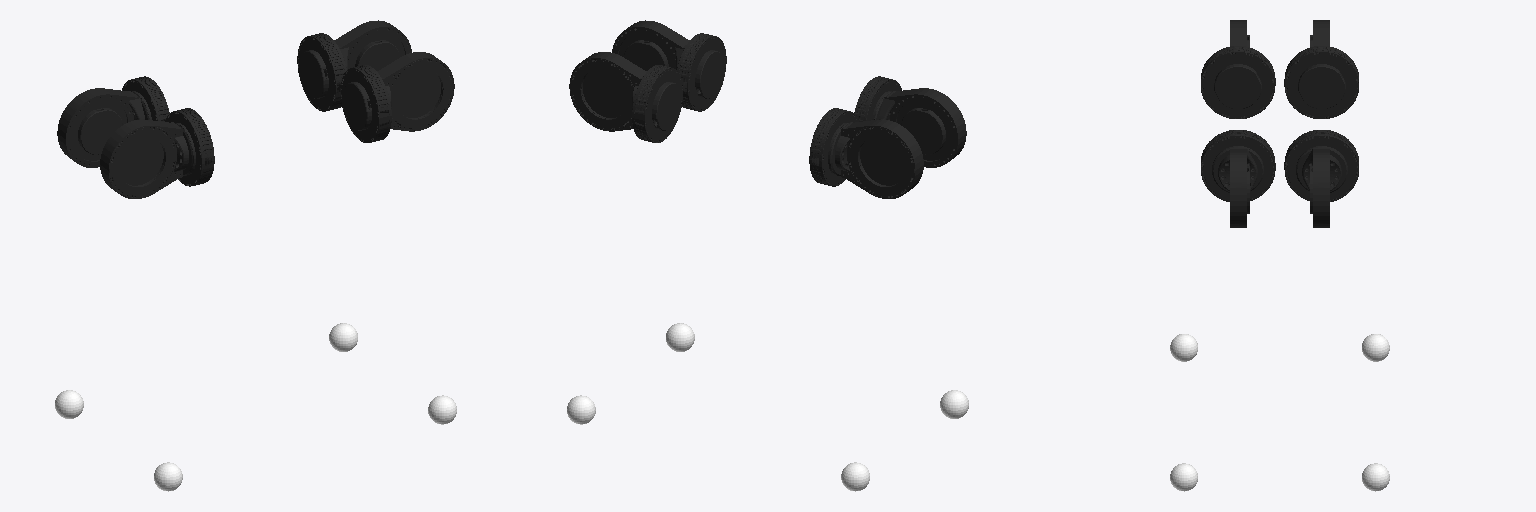
--- Facts derived from the render (not from the file) ---
The picture shows the robot from 3 angles, left to right: view 1: azimuth 30°, elevation 25°; view 2: azimuth 150°, elevation 25°; view 3: azimuth 270°, elevation 25°; orthographic projection.
Robot: quake_description — 18 links, 17 joints (12 revolute, 5 fixed); root link base; default pose: all joints at 0.
Visible links, largest first — view 1: RH_hip, RF_hip, LF_hip, LH_hip, LH_FOOT, LF_FOOT, RF_FOOT, RH_FOOT; view 2: LH_hip, LF_hip, RF_hip, RH_hip, RH_FOOT, RF_FOOT, LF_FOOT, LH_FOOT; view 3: LH_hip, RH_hip, LF_hip, RF_hip, LF_FOOT, LH_FOOT, RF_FOOT, RH_FOOT.
Boxes of the visible links, box(x1,y1,x2,y2) form: RH_hip: box(100, 108, 214, 198); RF_hip: box(341, 52, 454, 142); LF_hip: box(297, 20, 411, 111); LH_hip: box(57, 76, 169, 167); LH_FOOT: box(55, 390, 83, 418); LF_FOOT: box(329, 323, 357, 351); RF_FOOT: box(428, 395, 456, 424); RH_FOOT: box(154, 462, 182, 491); LH_hip: box(809, 108, 923, 198); LF_hip: box(569, 52, 682, 142); RF_hip: box(612, 20, 726, 111); RH_hip: box(854, 76, 966, 167); RH_FOOT: box(940, 390, 968, 418); RF_FOOT: box(666, 323, 694, 351); LF_FOOT: box(567, 395, 595, 424); LH_FOOT: box(841, 462, 869, 491); LH_hip: box(1284, 20, 1358, 118); RH_hip: box(1201, 20, 1275, 118); LF_hip: box(1284, 130, 1358, 227); RF_hip: box(1201, 130, 1275, 227); LF_FOOT: box(1362, 463, 1389, 491); LH_FOOT: box(1362, 334, 1389, 361); RF_FOOT: box(1170, 463, 1197, 491); RH_FOOT: box(1170, 334, 1197, 361).
Bounding box of the posed robot: 0.877 × 0.498 × 0.839 m (x, y, z).
Meshes: 5 distinct files referenced, 4 mesh visuals loaded (1 binary STL); not drawn: 9 (reference not matched to a file when rendering).

URDF robot description (quake_description):
<?xml version="1.0" encoding="utf-8"?>

<robot name="quake_description">
  
  <material name="black">
    <color rgba="0.0 0.0 0.0 1.0"/>
  </material>
  <material name="blue">
    <color rgba="0.0 0.0 0.8 1.0"/>
  </material>
  <material name="green">
    <color rgba="0.0 0.8 0.0 1.0"/>
  </material>
  <material name="grey">
    <color rgba="0.2 0.2 0.2 1.0"/>
  </material>
  <material name="silver">
    <color rgba="0.913725490196 0.913725490196 0.847058823529 1.0"/>
  </material>
  <material name="orange">
    <color rgba="1.0 0.423529411765 0.0392156862745 1.0"/>
  </material>
  <material name="brown">
    <color rgba="0.870588235294 0.811764705882 0.764705882353 1.0"/>
  </material>
  <material name="red">
    <color rgba="0.8 0.0 0.0 1.0"/>
  </material>
  <material name="white">
    <color rgba="1.0 1.0 1.0 1.0"/>
  </material>

  <gazebo>
      <plugin name="gazebo_ros_control" filename="liblegged_hw_sim.so">
          <robotNamespace>/</robotNamespace>
          <robotParam>legged_robot_description</robotParam>
          <robotSimType>legged_gazebo/LeggedHWSim</robotSimType>
      </plugin>
  </gazebo>

  <gazebo>
      <plugin name="p3d_base_controller" filename="libgazebo_ros_p3d.so">
          <alwaysOn>true</alwaysOn>
          <updateRate>1000.0</updateRate>
          <bodyName>base</bodyName>
          <topicName>ground_truth/state</topicName>
          <gaussianNoise>0</gaussianNoise>
          <frameName>world</frameName>
          <xyzOffsets>0 0 0</xyzOffsets>
          <rpyOffsets>0 0 0</rpyOffsets>
      </plugin>
  </gazebo>

  <link name="base">
    <visual>
      <origin rpy="0 0 0" xyz="0 0 0"/>
      <geometry>
        <mesh filename="package://quake_description/meshes/trunk.STL" scale="1 1 1"/>
      </geometry>
      <material name="grey"/>
    </visual>
    <collision>
      <origin rpy="0 0 0" xyz="0 0 0"/>
      <geometry>
        <box size="0.9 0.19 0.05"/>
      </geometry>
    </collision>
    <inertial>
      <origin rpy="0 0 0" xyz="0.0 0.0 0.0"/>
      <mass value="40.116"/>
      <inertia ixx="0.18499" ixy="-0.00164228" ixz="0.001773" iyy="2.328582" iyz="0.00017583" izz="2.3874545"/>
    </inertial>
  </link>

  <joint name="base_imu_joint" type="fixed">
    <parent link="base"/>
    <child link="base_imu"/>
    <origin rpy="0 0 0" xyz="0 0 0"/>
  </joint>

  <link name="base_imu">
    <inertial>
      <mass value="0.001"/>
      <origin rpy="0 0 0" xyz="0 0 0"/>
      <inertia ixx="0.00000001" ixy="0" ixz="0" iyy="0.00000001" iyz="0" izz="0.00000001"/>
    </inertial>
    <visual>
      <origin rpy="0 0 0" xyz="0 0 0"/>
      <geometry>
        <box size="0.001 0.001 0.001"/>
      </geometry>
      <material name="red"/>
    </visual>
    <collision>
      <origin rpy="0 0 0" xyz="0 0 0"/>
      <geometry>
        <box size=".001 .001 .001"/>
      </geometry>
    </collision>
  </link>
  
  <gazebo reference="base_imu">
      <material>Gazebo/Orange</material>
  </gazebo>
  <gazebo reference="base_imu_joint">
      <disableFixedJointLumping>true</disableFixedJointLumping>
  </gazebo>  

  <joint name="LF_HAA" type="revolute">
    <origin rpy="0 0 0" xyz="0.241 0.095 0"/>
    <parent link="base"/>
    <child link="LF_hip"/>
    <axis xyz="1 0 0"/>
    <dynamics damping="0.01" friction="0.2"/>
    <limit effort="550" lower="-0.8" upper="0.8" velocity="52.4" />
    <initial_value value="0.45"/>
  </joint>

  <link name="LF_hip">
    <visual>
      <origin rpy="0 0 0" xyz="0 0 0"/>
      <geometry>
        <mesh filename="package://quake_description/meshes/hip.STL" scale="1 1 1"/>
      </geometry>
      <material name="grey"/>
    </visual>
    <collision>
      <origin rpy="1.57079632679 0 0" xyz="0 -0.04 0"/>
      <geometry>
        <cylinder length="0.08" radius="0.041"/>
      </geometry>
    </collision>
    <inertial>
      <origin rpy="0 0 0" xyz="-0.001568 -0.008134 0.000864"/>
      <mass value="1.8188"/>
      <inertia ixx="0.002903894" ixy="-0.000071850" ixz="-0.000001262" iyy="0.004907517" iyz="-0.00000175" izz="0.005586944"/>
    </inertial>
  </link>

  <joint name="LF_HFE" type="revolute">
    <origin rpy="0 0 0" xyz="0.1065 0.122 0"/>
    <parent link="LF_hip"/>
    <child link="LF_thigh"/>
    <axis xyz="0 1 0"/>
    <dynamics damping="0.01" friction="0.2"/>
    <limit effort="550" lower="-1.04" upper="4.188" velocity="28.6" />
    <initial_value value="1.20"/>
  </joint>

  <link name="LF_thigh">
    <visual>
      <origin rpy="0 0 0" xyz="0 -0.06 0"/>
      <geometry>
        <mesh filename="package://quake_description/meshes/thigh.STL" scale="1 1 1"/>
      </geometry>
      <material name="grey"/>
    </visual>
    <collision>
      <origin rpy="0 1.57079632679 0" xyz="0 0 -0.18"/>
      <geometry>
        <box size="0.36 0.034 0.043"/>
      </geometry>
    </collision>
    <inertial>
      <origin rpy="0 0 0" xyz="-0.000482 0.02001 -0.031996"/>
      <mass value="1.7272"/>
      <inertia ixx="0.0153003681" ixy="0.0000097119" ixz="0.0013269042" iyy="0.0157875183" iyz="0.0000272322" izz="0.0009984897"/>
    </inertial>
  </link>

  <joint name="LF_KFE" type="revolute">
    <origin rpy="0 0 0" xyz="0 0 -0.36"/>
    <parent link="LF_thigh"/>
    <child link="LF_calf"/>
    <axis xyz="0 1 0"/>
    <dynamics damping="0.01" friction="0.2"/>
    <limit effort="550" lower="-2.69" upper="0" velocity="28.6"/>
    <initial_value value="-2.69"/>
  </joint>

  <link name="LF_calf">
    <visual>
      <origin rpy="0 0 0" xyz="0 0 0"/>
      <geometry>
        <mesh filename="package://quake_description/meshes/calf.STL" scale="1 1 1"/>
      </geometry>
      <material name="white"/>
    </visual>
    <collision>
      <origin rpy="0 1.57079632679 0" xyz="0 0 -0.18"/>
      <geometry>
        <box size="0.36 0.016 0.016"/>
      </geometry>
    </collision>
    <inertial>
      <origin rpy="0 0 0" xyz="-0.002196 -0.000381 -0.12338"/>
      <mass value="0.30254"/>
      <inertia ixx="0.006341369" ixy="-0.000000003" ixz="-0.000087951" iyy="0.006355157" iyz="-0.000001336" izz="0.000039188"/>
    </inertial>
  </link>

  <joint name="LF_foot_fixed" type="fixed">
    <origin rpy="0 0 0" xyz="0 0 -0.36"/>
    <parent link="LF_calf"/>
    <child link="LF_FOOT"/>
  </joint>

  <link name="LF_FOOT">
    <visual>
      <origin rpy="0 0 0" xyz="0 0 0"/>
      <geometry>
        <sphere radius="0.032"/>
      </geometry>
      <material name="white"/>
    </visual>
    <collision>
      <origin rpy="0 0 0" xyz="0 0 0"/>
      <geometry>
        <sphere radius="0.022"/>
      </geometry>
    </collision>
    <inertial>
      <mass value="0.06"/>
      <inertia ixx="4.2336e-05" ixy="0.0" ixz="0.0" iyy="4.2336e-05" iyz="0.0" izz="4.2336e-05"/>
    </inertial>
  </link>
  
  <gazebo reference="LF_foot_fixed">
      <disableFixedJointLumping>true</disableFixedJointLumping>
  </gazebo>

  <gazebo reference="LF_hip">
      <mu1>0.2</mu1>
      <mu2>0.2</mu2>
      <material>Gazebo/DarkGrey</material>
  </gazebo>
  <gazebo reference="LF_thigh">
      <mu1>0.2</mu1>
      <mu2>0.2</mu2>
      <self_collide>0</self_collide>
      <material>Gazebo/DarkGrey</material>
      <kp value="1000000.0"/>
      <kd value="100.0"/>
  </gazebo>
  <gazebo reference="LF_calf">
      <mu1>0.6</mu1>
      <mu2>0.6</mu2>
      <self_collide>0</self_collide>
  </gazebo>
  <gazebo reference="LF_FOOT">
      <mu1>0.6</mu1>
      <mu2>0.6</mu2>
      <self_collide>1</self_collide>
      <material>Gazebo/DarkGrey</material>
      <kp value="1000000.0"/>
      <kd value="100.0"/>
  </gazebo>

  <transmission name="LF_HAA_tran">
      <type>transmission_interface/SimpleTransmission</type>
      <joint name="LF_HAA">
          <hardwareInterface>hardware_interface/EffortJointInterface</hardwareInterface>
      </joint>
      <actuator name="LF_HAA_motor">
          <hardwareInterface>hardware_interface/EffortJointInterface</hardwareInterface>
          <mechanicalReduction>1</mechanicalReduction>
      </actuator>
  </transmission>

  <transmission name="LF_HFE_tran">
      <type>transmission_interface/SimpleTransmission</type>
      <joint name="LF_HFE">
          <hardwareInterface>hardware_interface/EffortJointInterface</hardwareInterface>
      </joint>
      <actuator name="LF_HFE_motor">
          <hardwareInterface>hardware_interface/EffortJointInterface</hardwareInterface>
          <mechanicalReduction>1</mechanicalReduction>
      </actuator>
  </transmission>

  <transmission name="LF_KFE_tran">
      <type>transmission_interface/SimpleTransmission</type>
      <joint name="LF_KFE">
          <hardwareInterface>hardware_interface/EffortJointInterface</hardwareInterface>
      </joint>
      <actuator name="LF_KFE_motor">
          <hardwareInterface>hardware_interface/EffortJointInterface</hardwareInterface>
          <mechanicalReduction>1</mechanicalReduction>
      </actuator>
  </transmission>

  <joint name="LH_HAA" type="revolute">
    <origin rpy="0 0 0" xyz="-0.241 0.095 0"/>
    <parent link="base"/>
    <child link="LH_hip"/>
    <axis xyz="1 0 0"/>
    <dynamics damping="0.01" friction="0.2"/>
    <limit effort="550" lower="-0.8" upper="0.8" velocity="52.4"/>
    <initial_value value="0.45"/>
  </joint>

  <link name="LH_hip">
    <visual>
      <origin rpy="0 3.14159265359 0" xyz="0 0 0"/>
      <geometry>
        <mesh filename="package://quake_description/meshes/hip.STL" scale="1 1 1"/>
      </geometry>
      <material name="grey"/>
    </visual>
    <collision>
      <origin rpy="1.57079632679 0 0" xyz="0 -0.04 0"/>
      <geometry>
        <cylinder length="0.08" radius="0.041"/>
      </geometry>
    </collision>
    <inertial>
      <origin rpy="0 0 0" xyz="0.001568 -0.008134 0.000864"/>
      <mass value="1.8188"/>
      <inertia ixx="0.002903894" ixy="-0.000071850" ixz="-0.000001262" iyy="0.004907517" iyz="-0.00000175" izz="0.005586944"/>
    </inertial>
  </link>
  <!--joint name="RL_hip_fixed" type="fixed">
    <origin rpy="0 0 0" xyz="0 0.04 0"/>
    <parent link="RL_hip"/>
    <child link="RL_thigh_shoulder"/>
  </joint-->
  <!-- this link is only for collision -->
  <!--link name="RL_thigh_shoulder">
    <collision>
      <origin rpy="1.57079632679 0 0" xyz="0 0 0"/>
      <geometry>
        <cylinder length="0.08" radius="0.044"/>
      </geometry>
    </collision>
  </link-->

  <joint name="LH_HFE" type="revolute">
    <origin rpy="0 0 0" xyz="-0.1065 0.122 0"/>
    <parent link="LH_hip"/>
    <child link="LH_thigh"/>
    <axis xyz="0 1 0"/>
    <dynamics damping="0.01" friction="0.2"/>
    <limit effort="550" lower="-1.04" upper="4.188" velocity="28.6" />
    <initial_value value="1.20"/>
  </joint>

  <link name="LH_thigh">
    <visual>
      <origin rpy="0 0 0" xyz="0 -0.06 0"/>
      <geometry>
        <mesh filename="package://quake_description/meshes/thigh.STL" scale="1 1 1"/>
      </geometry>
      <material name="grey"/>
    </visual>
    <collision>
      <origin rpy="0 1.57079632679 0" xyz="0 0 -0.18"/>
      <geometry>
        <box size="0.36 0.034 0.043"/>
      </geometry>
    </collision>
    <inertial>
      <origin rpy="0 0 0" xyz="-0.000482 0.02001 -0.031996"/>
      <mass value="1.7272"/>
       <inertia ixx="0.0153003681" ixy="0.0000097119" ixz="0.0013269042" iyy="0.0157875183" iyz="0.0000272322" izz="0.0009984897"/>
    </inertial>
  </link>

  <joint name="LH_KFE" type="revolute">
    <origin rpy="0 0 0" xyz="0 0 -0.36"/>
    <parent link="LH_thigh"/>
    <child link="LH_calf"/>
    <axis xyz="0 1 0"/>
    <dynamics damping="0.01" friction="0.2"/>
    <limit effort="550" lower="-2.69" upper="0" velocity="28.6" />
    <initial_value value="-2.69"/>
  </joint>

  <link name="LH_calf">
    <visual>
      <origin rpy="0 0 0" xyz="0 0 0"/>
      <geometry>
        <mesh filename="package://quake_description/meshes/calf.STL" scale="1 1 1"/>
      </geometry>
      <material name="white"/>
    </visual>
    <collision>
      <origin rpy="0 1.57079632679 0" xyz="0 0 -0.18"/>
      <geometry>
        <box size="0.36 0.016 0.016"/>
      </geometry>
    </collision>
    <inertial>
      <origin rpy="0 0 0" xyz="-0.002196 -0.000381 -0.12338"/>
      <mass value="0.30254"/>
      <inertia ixx="0.006341369" ixy="-0.000000003" ixz="-0.000087951" iyy="0.006355157" iyz="-0.000001336" izz="0.000039188"/>
    </inertial>
  </link>

  <joint name="LH_foot_fixed" type="fixed">
    <origin rpy="0 0 0" xyz="0 0 -0.36"/>
    <parent link="LH_calf"/>
    <child link="LH_FOOT"/>
  </joint>

  <link name="LH_FOOT">
    <visual>
      <origin rpy="0 0 0" xyz="0 0 0"/>
      <geometry>
        <sphere radius="0.032"/>
      </geometry>
      <material name="white"/>
    </visual>
    <collision>
      <origin rpy="0 0 0" xyz="0 0 0"/>
      <geometry>
        <sphere radius="0.022"/>
      </geometry>
    </collision>
    <inertial>
      <mass value="0.06"/>
      <inertia ixx="4.2336e-05" ixy="0.0" ixz="0.0" iyy="4.2336e-05" iyz="0.0" izz="4.2336e-05"/>
    </inertial>
  </link>

  <gazebo reference="LH_foot_fixed">
      <disableFixedJointLumping>true</disableFixedJointLumping>
  </gazebo>
  <gazebo reference="LH_hip">
      <mu1>0.2</mu1>
      <mu2>0.2</mu2>
      <material>Gazebo/DarkGrey</material>
  </gazebo>
  <gazebo reference="LH_thigh">
      <mu1>0.2</mu1>
      <mu2>0.2</mu2>
      <self_collide>0</self_collide>
      <material>Gazebo/DarkGrey</material>
      <kp value="1000000.0"/>
      <kd value="100.0"/>
  </gazebo>
  <gazebo reference="LH_calf">
      <mu1>0.6</mu1>
      <mu2>0.6</mu2>
      <self_collide>0</self_collide>
  </gazebo>
  <gazebo reference="LH_FOOT">
      <mu1>0.6</mu1>
      <mu2>0.6</mu2>
      <self_collide>1</self_collide>
      <material>Gazebo/DarkGrey</material>
      <kp value="1000000.0"/>
      <kd value="100.0"/>
  </gazebo>

  <transmission name="LH_HAA_tran">
    <type>transmission_interface/SimpleTransmission</type>
    <joint name="LH_HAA">
      <hardwareInterface>hardware_interface/EffortJointInterface</hardwareInterface>
    </joint>
    <actuator name="LH_HAA_motor">
      <hardwareInterface>hardware_interface/EffortJointInterface</hardwareInterface>
      <mechanicalReduction>1</mechanicalReduction>
    </actuator>
  </transmission>

  <transmission name="LH_HFE_tran">
    <type>transmission_interface/SimpleTransmission</type>
    <joint name="LH_HFE">
      <hardwareInterface>hardware_interface/EffortJointInterface</hardwareInterface>
    </joint>
    <actuator name="LH_HFE_motor">
      <hardwareInterface>hardware_interface/EffortJointInterface</hardwareInterface>
      <mechanicalReduction>1</mechanicalReduction>
    </actuator>
  </transmission>

  <transmission name="LH_KFE_tran">
    <type>transmission_interface/SimpleTransmission</type>
    <joint name="LH_KFE">
      <hardwareInterface>hardware_interface/EffortJointInterface</hardwareInterface>
    </joint>
    <actuator name="LH_KFE_motor">
      <hardwareInterface>hardware_interface/EffortJointInterface</hardwareInterface>
      <mechanicalReduction>1</mechanicalReduction>
    </actuator>
  </transmission>

  <joint name="RF_HAA" type="revolute">
    <origin rpy="0 0 0" xyz="0.241 -0.095 0"/>
    <parent link="base"/>
    <child link="RF_hip"/>
    <axis xyz="1 0 0"/>
    <dynamics damping="0.01" friction="0.2"/>
    <limit effort="550" lower="-0.8" upper="0.8" velocity="52.4"/>
    <initial_value value="0.45"/>
  </joint>

  <link name="RF_hip">
    <visual>
      <origin rpy="3.14159265359 0 0" xyz="0 0 0"/>
      <geometry>
        <mesh filename="package://quake_description/meshes/hip.STL" scale="1 1 1"/>
      </geometry>
      <material name="grey"/>
    </visual>
    <collision>
      <origin rpy="1.57079632679 0 0" xyz="0 0.04 0"/>
      <geometry>
        <cylinder length="0.08" radius="0.041"/>
      </geometry>
    </collision>
    <inertial>
      <origin rpy="0 0 0" xyz="-0.001568 0.008134 0.000864"/>
      <mass value="1.8188"/>
      <inertia ixx="0.002903894" ixy="-0.000071850" ixz="-0.000001262" iyy="0.004907517" iyz="-0.00000175" izz="0.005586944"/>
    </inertial>
  </link>

  <!--joint name="FR_hip_fixed" type="fixed">
    <origin rpy="0 0 0" xyz="0 -0.04 0"/>
    <parent link="FR_hip"/>
    <child link="FR_thigh_shoulder"/>
  </joint-->
  <!-- this link is only for collision -->
  <!--link name="FR_thigh_shoulder">
    <collision>
      <origin rpy="1.57079632679 0 0" xyz="0 0 0"/>
      <geometry>
        <cylinder length="0.08" radius="0.044"/>
      </geometry>
    </collision>
  </link-->

  <joint name="RF_HFE" type="revolute">
    <origin rpy="0 0 0" xyz="0.1065 -0.122 0"/>
    <parent link="RF_hip"/>
    <child link="RF_thigh"/>
    <axis xyz="0 1 0"/>
    <dynamics damping="0.01" friction="0.2"/>
    <limit effort="550" lower="-1.04" upper="4.188" velocity="28.6" />
    <initial_value value="1.20"/>
  </joint>

  <link name="RF_thigh">
    <visual>
      <origin rpy="0 0 0" xyz="0 0.06 0"/>
      <geometry>
        <mesh filename="package://quake_description/meshes/thigh_mirror.STL" scale="1 1 1"/>
      </geometry>
      <material name="grey"/>
    </visual>
    <collision>
      <origin rpy="0 1.57079632679 0" xyz="0 0 -0.18"/>
      <geometry>
        <box size="0.36 0.034 0.043"/>
      </geometry>
    </collision>
    <inertial>
      <origin rpy="0 0 0" xyz="-0.000482 -0.02001 -0.031996"/>
      <mass value="1.7272"/>
       <inertia ixx="0.0153003681" ixy="0.0000097119" ixz="0.0013269042" iyy="0.0157875183" iyz="0.0000272322" izz="0.0009984897"/>
    </inertial>
  </link>

  <joint name="RF_KFE" type="revolute">
    <origin rpy="0 0 0" xyz="0 0 -0.36"/>
    <parent link="RF_thigh"/>
    <child link="RF_calf"/>
    <axis xyz="0 1 0"/>
    <dynamics damping="0.01" friction="0.2"/>
    <limit effort="550" lower="-2.69" upper="0" velocity="28.6" />
    <initial_value value="-2.69"/>
  </joint>

  <link name="RF_calf">
    <visual>
      <origin rpy="0 0 0" xyz="0 0 0"/>
      <geometry>
        <mesh filename="package://quake_description/meshes/calf.STL" scale="1 1 1"/>
      </geometry>
      <material name="white"/>
    </visual>
    <collision>
      <origin rpy="0 1.57079632679 0" xyz="0 0 -0.18"/>
      <geometry>
        <box size="0.36 0.016 0.016"/>
      </geometry>
    </collision>
    <inertial>
      <origin rpy="0 0 0" xyz="-0.002196 -0.000381 -0.12338"/>
      <mass value="0.30254"/>
      <inertia ixx="0.006341369" ixy="-0.000000003" ixz="-0.000087951" iyy="0.006355157" iyz="-0.000001336" izz="0.000039188"/>
    </inertial>
  </link>

  <joint name="RF_foot_fixed" type="fixed">
    <origin rpy="0 0 0" xyz="0 0 -0.36"/>
    <parent link="RF_calf"/>
    <child link="RF_FOOT"/>
  </joint>

  <link name="RF_FOOT">
    <visual>
      <origin rpy="0 0 0" xyz="0 0 0"/>
      <geometry>
        <sphere radius="0.032"/>
      </geometry>
      <material name="white"/>
    </visual>
    <collision>
      <origin rpy="0 0 0" xyz="0 0 0"/>
      <geometry>
        <sphere radius="0.022"/>
      </geometry>
    </collision>
    <inertial>
      <mass value="0.06"/>
      <inertia ixx="4.2336e-05" ixy="0.0" ixz="0.0" iyy="4.2336e-05" iyz="0.0" izz="4.2336e-05"/>
    </inertial>
  </link>

  <gazebo reference="RF_foot_fixed">
      <disableFixedJointLumping>true</disableFixedJointLumping>
  </gazebo>

  <gazebo reference="RF_hip">
      <mu1>0.2</mu1>
      <mu2>0.2</mu2>
      <material>Gazebo/DarkGrey</material>
  </gazebo>
  <gazebo reference="RF_thigh">
      <mu1>0.2</mu1>
      <mu2>0.2</mu2>
      <self_collide>0</self_collide>
      <material>Gazebo/DarkGrey</material>
      <kp value="1000000.0"/>
      <kd value="100.0"/>
  </gazebo>
  <gazebo reference="RF_calf">
      <mu1>0.6</mu1>
      <mu2>0.6</mu2>
      <self_collide>0</self_collide>
  </gazebo>
  <gazebo reference="RF_FOOT">
      <mu1>0.6</mu1>
      <mu2>0.6</mu2>
      <self_collide>1</self_collide>
      <material>Gazebo/DarkGrey</material>
      <kp value="1000000.0"/>
      <kd value="100.0"/>
  </gazebo>

  <transmission name="RF_HAA_tran">
    <type>transmission_interface/SimpleTransmission</type>
    <joint name="RF_HAA">
      <hardwareInterface>hardware_interface/EffortJointInterface</hardwareInterface>
    </joint>
    <actuator name="RF_HAA_motor">
      <hardwareInterface>hardware_interface/EffortJointInterface</hardwareInterface>
      <mechanicalReduction>1</mechanicalReduction>
    </actuator>
  </transmission>

  <transmission name="RF_HFE_tran">
    <type>transmission_interface/SimpleTransmission</type>
    <joint name="RF_HFE">
      <hardwareInterface>hardware_interface/EffortJointInterface</hardwareInterface>
    </joint>
    <actuator name="RF_HFE_motor">
      <hardwareInterface>hardware_interface/EffortJointInterface</hardwareInterface>
      <mechanicalReduction>1</mechanicalReduction>
    </actuator>
  </transmission>

  <transmission name="RF_KFE_tran">
    <type>transmission_interface/SimpleTransmission</type>
    <joint name="RF_KFE">
      <hardwareInterface>hardware_interface/EffortJointInterface</hardwareInterface>
    </joint>
    <actuator name="RF_KFE_motor">
      <hardwareInterface>hardware_interface/EffortJointInterface</hardwareInterface>
      <mechanicalReduction>1</mechanicalReduction>
    </actuator>
  </transmission>

  <joint name="RH_HAA" type="revolute">
    <origin rpy="0 0 0" xyz="-0.241 -0.095 0"/>
    <parent link="base"/>
    <child link="RH_hip"/>
    <axis xyz="1 0 0"/>
    <dynamics damping="0.01" friction="0.2"/>
    <limit effort="550" lower="-0.8" upper="0.8" velocity="52.4"/>
    <initial_value value="0.45"/>
  </joint>

  <link name="RH_hip">
    <visual>
      <origin rpy="3.14159265359 3.14159265359 0" xyz="0 0 0"/>
      <geometry>
        <mesh filename="package://quake_description/meshes/hip.STL" scale="1 1 1"/>
      </geometry>
      <material name="grey"/>
    </visual>
    <collision>
      <origin rpy="1.57079632679 0 0" xyz="0 0.04 0"/>
      <geometry>
        <cylinder length="0.08" radius="0.041"/>
      </geometry>
    </collision>
    <inertial>
      <origin rpy="0 0 0" xyz="0.001568 0.008134 0.000864"/>
      <mass value="1.8188"/>
      <inertia ixx="0.002903894" ixy="-0.000071850" ixz="-0.000001262" iyy="0.004907517" iyz="-0.00000175" izz="0.005586944"/>
    </inertial>
  </link>
  <!--joint name="RR_hip_fixed" type="fixed">
    <origin rpy="0 0 0" xyz="0 -0.04 0"/>
    <parent link="RR_hip"/>
    <child link="RR_thigh_shoulder"/>
  </joint-->
  <!-- this link is only for collision -->
  <!--link name="RR_thigh_shoulder">
    <collision>
      <origin rpy="1.57079632679 0 0" xyz="0 0 0"/>
      <geometry>
        <cylinder length="0.08" radius="0.044"/>
      </geometry>
    </collision>
  </link-->

  <joint name="RH_HFE" type="revolute">
    <origin rpy="0 0 0" xyz="-0.1065 -0.122 0"/>
    <parent link="RH_hip"/>
    <child link="RH_thigh"/>
    <axis xyz="0 1 0"/>
    <dynamics damping="0.01" friction="0.2"/>
    <limit effort="550" lower="-1.04" upper="4.188" velocity="28.6"/>
    <initial_value value="1.20"/>
  </joint>

  <link name="RH_thigh">
    <visual>
      <origin rpy="0 0 0" xyz="0 0.06 0"/>
      <geometry>
        <mesh filename="package://quake_description/meshes/thigh_mirror.STL" scale="1 1 1"/>
      </geometry>
      <material name="grey"/>
    </visual>
    <collision>
      <origin rpy="0 1.57079632679 0" xyz="0 0 -0.18"/>
      <geometry>
        <box size="0.36 0.034 0.043"/>
      </geometry>
    </collision>
    <inertial>
      <origin rpy="0 0 0" xyz="-0.000482 -0.02001 -0.031996"/>
      <mass value="1.7272"/>
      <inertia ixx="0.0153003681" ixy="0.0000097119" ixz="0.0013269042" iyy="0.0157875183" iyz="0.0000272322" izz="0.0009984897"/>
    </inertial>
  </link>

  <joint name="RH_KFE" type="revolute">
    <origin rpy="0 0 0" xyz="0 0 -0.36"/>
    <parent link="RH_thigh"/>
    <child link="RH_calf"/>
    <axis xyz="0 1 0"/>
    <dynamics damping="0.01" friction="0.2"/>
    <limit effort="550" lower="-2.69" upper="0" velocity="28.6"/>
    <initial_value value="-2.69"/>
  </joint>

  <link name="RH_calf">
    <visual>
      <origin rpy="0 0 0" xyz="0 0 0"/>
      <geometry>
        <mesh filename="package://quake_description/meshes/calf.STL" scale="1 1 1"/>
      </geometry>
      <material name="white"/>
    </visual>
    <collision>
      <origin rpy="0 1.57079632679 0" xyz="0 0 -0.18"/>
      <geometry>
        <box size="0.36 0.016 0.016"/>
      </geometry>
    </collision>
    <inertial>
      <origin rpy="0 0 0" xyz="-0.002196 -0.000381 -0.12338"/>
      <mass value="0.30254"/>
      <inertia ixx="0.006341369" ixy="-0.000000003" ixz="-0.000087951" iyy="0.006355157" iyz="-0.000001336" izz="0.000039188"/>
    </inertial>
  </link>

  <joint name="RH_foot_fixed" type="fixed">
    <origin rpy="0 0 0" xyz="0 0 -0.36"/>
    <parent link="RH_calf"/>
    <child link="RH_FOOT"/>
  </joint>

  <link name="RH_FOOT">
    <visual>
      <origin rpy="0 0 0" xyz="0 0 0"/>
      <geometry>
        <sphere radius="0.032"/>
      </geometry>
      <material name="white"/>
    </visual>
    <collision>
      <origin rpy="0 0 0" xyz="0 0 0"/>
      <geometry>
        <sphere radius="0.022"/>
      </geometry>
    </collision>
    <inertial>
      <mass value="0.06"/>
      <inertia ixx="4.2336e-05" ixy="0.0" ixz="0.0" iyy="4.2336e-05" iyz="0.0" izz="4.2336e-05"/>
    </inertial>
  </link>

  <gazebo reference="RH_foot_fixed">
      <disableFixedJointLumping>true</disableFixedJointLumping>
  </gazebo>

  <gazebo reference="RH_hip">
      <mu1>0.2</mu1>
      <mu2>0.2</mu2>
      <material>Gazebo/DarkGrey</material>
  </gazebo>
  <gazebo reference="RH_thigh">
      <mu1>0.2</mu1>
      <mu2>0.2</mu2>
      <self_collide>0</self_collide>
      <material>Gazebo/DarkGrey</material>
      <kp value="1000000.0"/>
      <kd value="100.0"/>
  </gazebo>
  <gazebo reference="RH_calf">
      <mu1>0.6</mu1>
      <mu2>0.6</mu2>
      <self_collide>0</self_collide>
  </gazebo>
  <gazebo reference="RH_FOOT">
      <mu1>0.6</mu1>
      <mu2>0.6</mu2>
      <self_collide>1</self_collide>
      <material>Gazebo/DarkGrey</material>
      <kp value="1000000.0"/>
      <kd value="100.0"/>
  </gazebo>

  <transmission name="RH_HAA_tran">
      <type>transmission_interface/SimpleTransmission</type>
      <joint name="RH_HAA">
          <hardwareInterface>hardware_interface/EffortJointInterface</hardwareInterface>
      </joint>
      <actuator name="RH_HAA_motor">
          <hardwareInterface>hardware_interface/EffortJointInterface</hardwareInterface>
          <mechanicalReduction>1</mechanicalReduction>
      </actuator>
  </transmission>

  <transmission name="RH_HFE_tran">
      <type>transmission_interface/SimpleTransmission</type>
      <joint name="RH_HFE">
          <hardwareInterface>hardware_interface/EffortJointInterface</hardwareInterface>
      </joint>
      <actuator name="RH_HFE_motor">
          <hardwareInterface>hardware_interface/EffortJointInterface</hardwareInterface>
          <mechanicalReduction>1</mechanicalReduction>
      </actuator>
  </transmission>

  <transmission name="RH_KFE_tran">
      <type>transmission_interface/SimpleTransmission</type>
      <joint name="RH_KFE">
          <hardwareInterface>hardware_interface/EffortJointInterface</hardwareInterface>
      </joint>
      <actuator name="RH_KFE_motor">
          <hardwareInterface>hardware_interface/EffortJointInterface</hardwareInterface>
          <mechanicalReduction>1</mechanicalReduction>
      </actuator>
  </transmission>
  
</robot>
